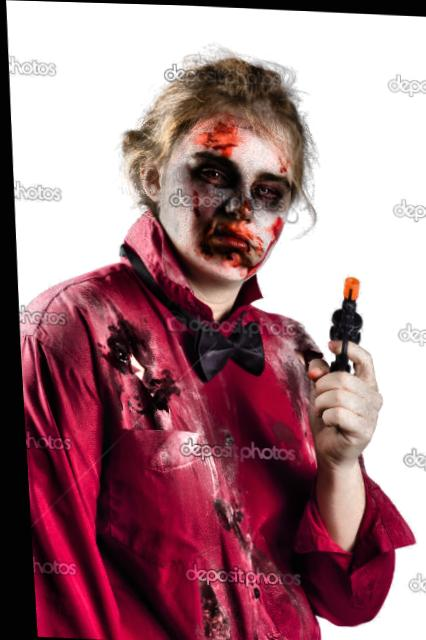pistol: (319, 268, 377, 393)
